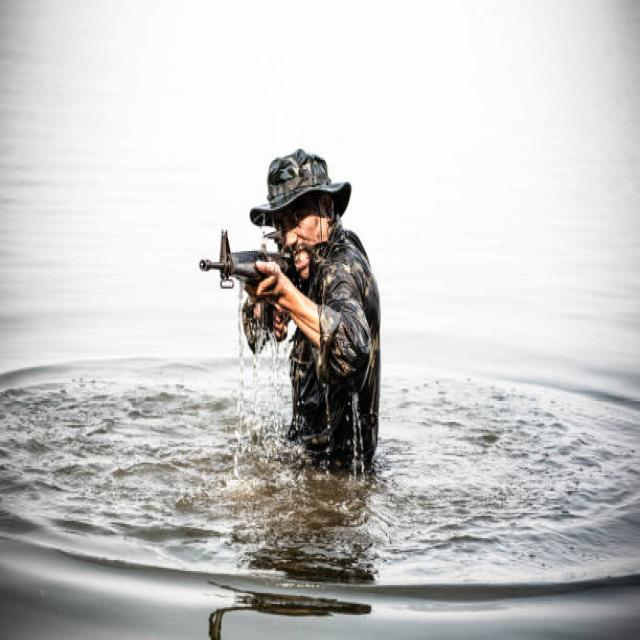soldier: (187, 145, 413, 506)
